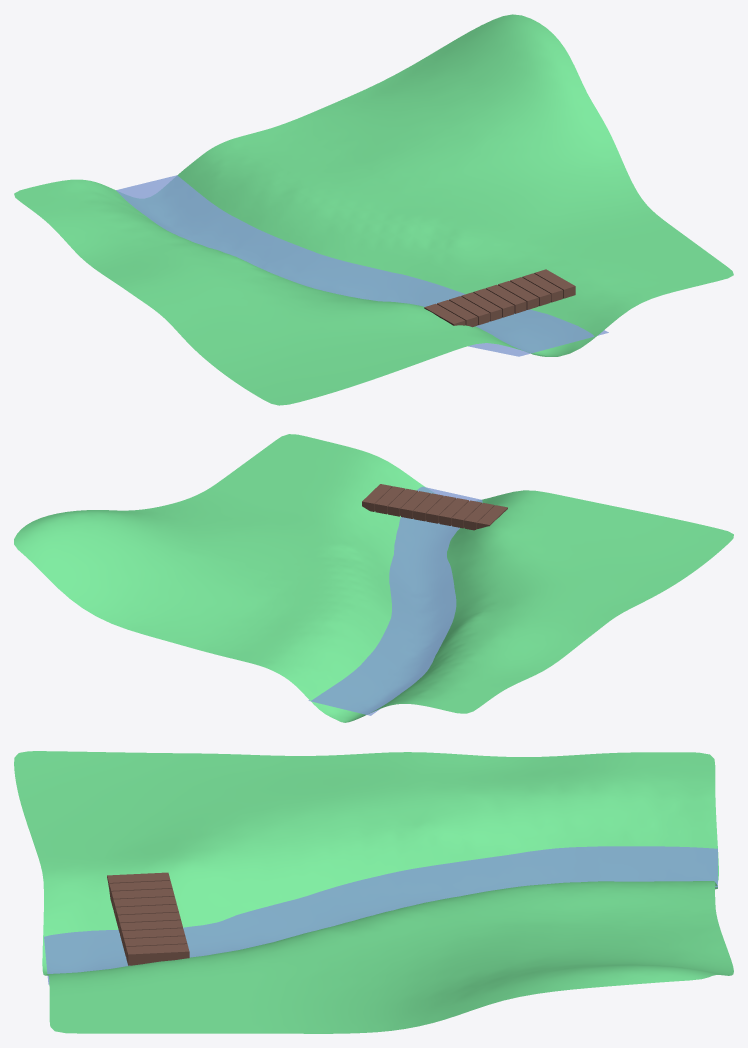
File: demo_scene.fbx
3 renders of one model, top to bottom at view 1: azimuth 30°, elevation 25°; view 2: azimuth 150°, elevation 25°; view 3: azimuth 270°, elevation 25°, orthographic. The views are drawn at different scales.
Visible parts, largest first — view 1: hill, river, bridge; view 2: hill, river, bridge; view 3: hill, river, bridge.
Part boxes in pixels (left/top/right/bottom): hill: left=14, top=14, right=733, bottom=405; river: left=116, top=175, right=608, bottom=356; bridge: left=424, top=269, right=575, bottom=327; hill: left=14, top=434, right=733, bottom=722; river: left=308, top=486, right=482, bottom=715; bridge: left=362, top=484, right=507, bottom=530; hill: left=14, top=751, right=733, bottom=1033; river: left=44, top=846, right=717, bottom=984; bridge: left=107, top=872, right=189, bottom=965.
Size of the model in its own units: 2263 by 449 by 2163.
